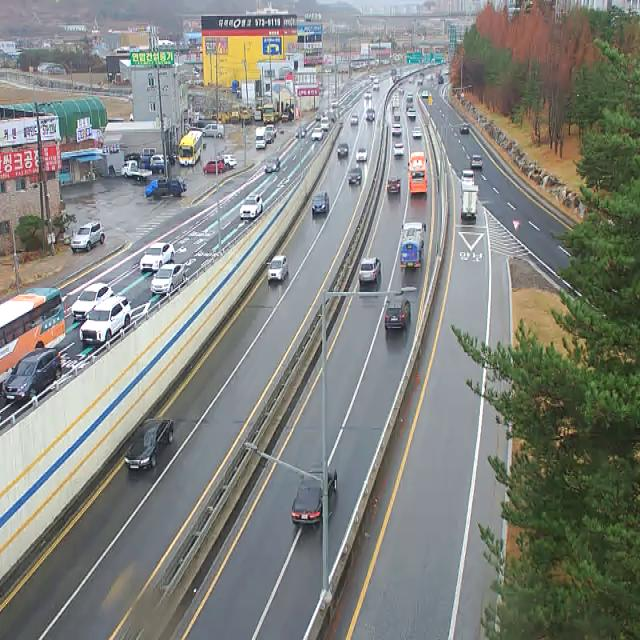Bus: (0, 288, 66, 382), (408, 152, 428, 196), (179, 130, 203, 166)
Car: (2, 348, 62, 403), (124, 419, 174, 472), (292, 467, 337, 525), (80, 297, 131, 342), (72, 284, 113, 320), (71, 220, 105, 254), (140, 242, 175, 272), (151, 264, 185, 294), (385, 298, 411, 330), (151, 177, 187, 200), (359, 257, 381, 285), (240, 194, 264, 219), (268, 256, 288, 282), (138, 155, 164, 173), (312, 192, 329, 214), (198, 124, 224, 137), (264, 157, 281, 174), (203, 161, 224, 174), (348, 167, 362, 185), (387, 177, 401, 194), (223, 155, 237, 170), (336, 143, 349, 159), (150, 155, 170, 165), (356, 147, 367, 163), (281, 109, 294, 122), (311, 128, 324, 141), (470, 155, 482, 169), (462, 172, 474, 186), (295, 126, 307, 139), (394, 143, 404, 158), (266, 125, 277, 138), (412, 127, 423, 139), (392, 124, 402, 136), (366, 108, 375, 121), (459, 123, 468, 133), (266, 133, 274, 144), (408, 109, 416, 119), (351, 114, 358, 125), (365, 90, 372, 100)
Truck: (400, 222, 426, 271), (461, 186, 479, 222), (121, 161, 152, 181), (262, 105, 278, 123), (256, 127, 266, 150)
